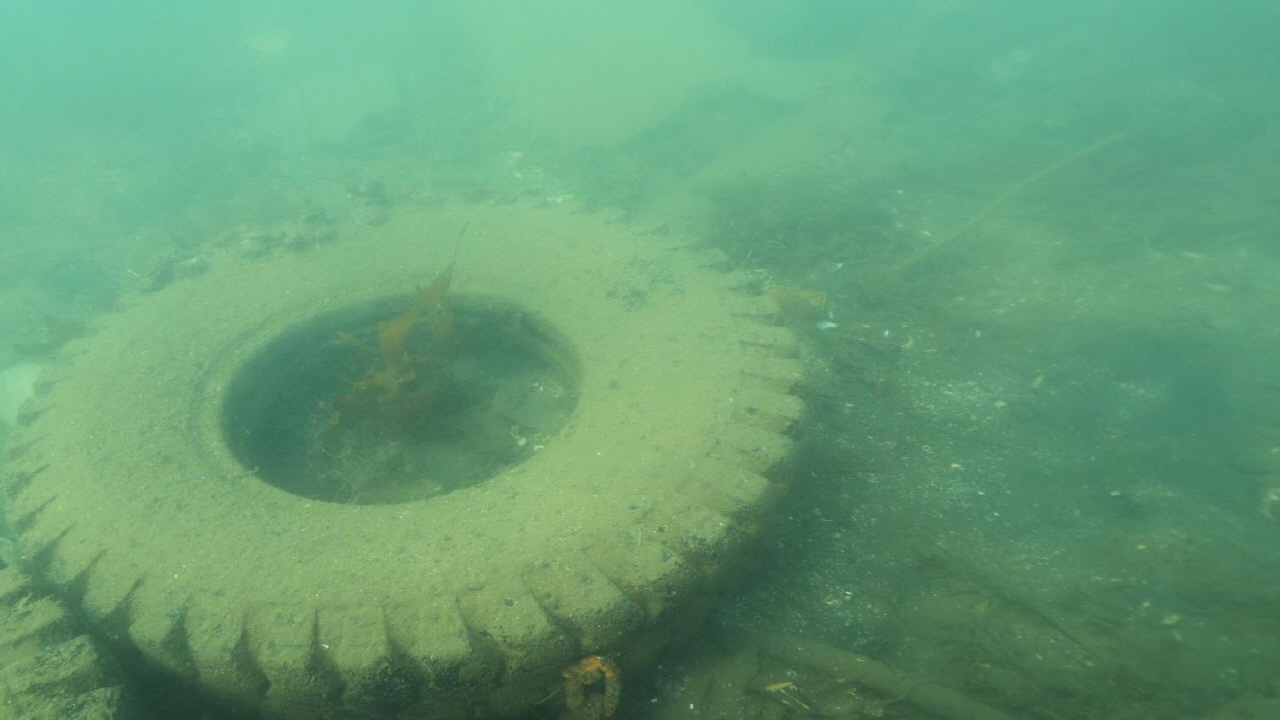tire: (1, 190, 802, 720)
